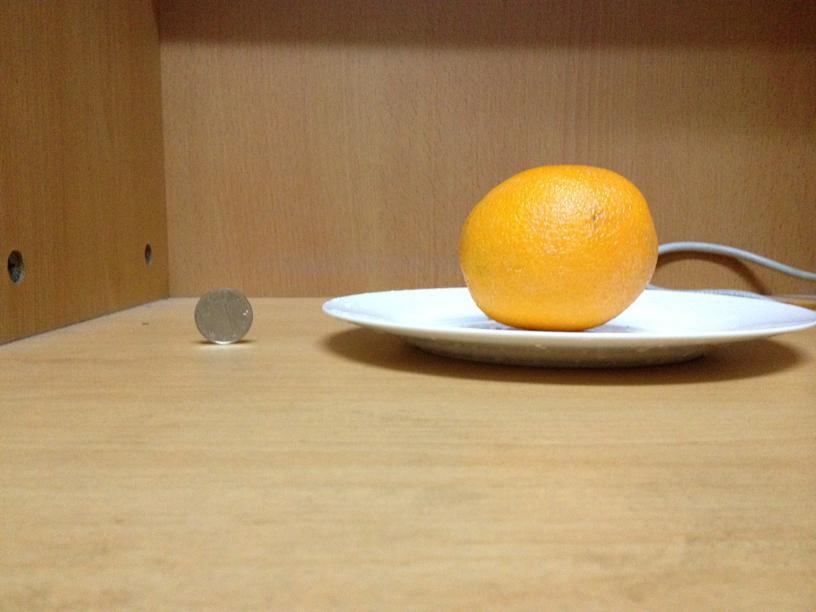coin: (190, 289, 252, 342)
orange: (453, 163, 660, 330)
